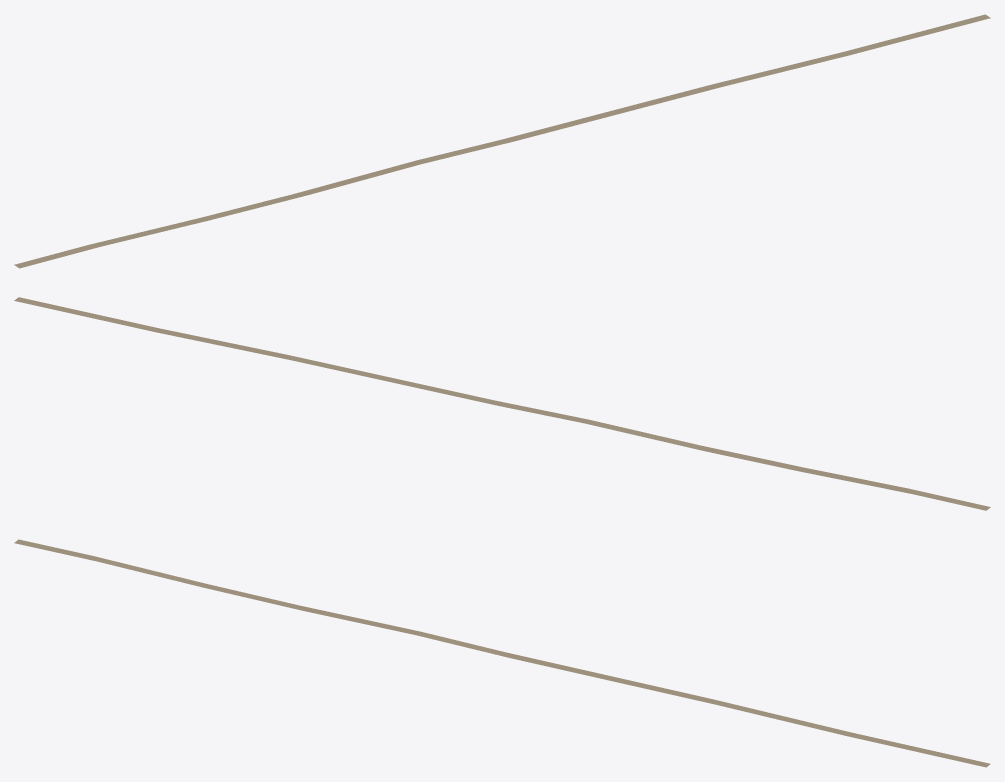
The model's file is farm_15_15_track.glb.
3 views of the same model, one above another, from view 1: azimuth 30°, elevation 25°; view 2: azimuth 150°, elevation 25°; view 3: azimuth 330°, elevation 25° (orthographic). The views are drawn at different scales.
Visible parts, largest first — view 1: geometry_0; view 2: geometry_0; view 3: geometry_0.
Part boxes in pixels (<box>): geometry_0: <box>14,14,990,268</box>; geometry_0: <box>14,297,990,510</box>; geometry_0: <box>14,539,990,767</box>.
Size of the model in its own units: 363 by 2.7 by 16.83.
